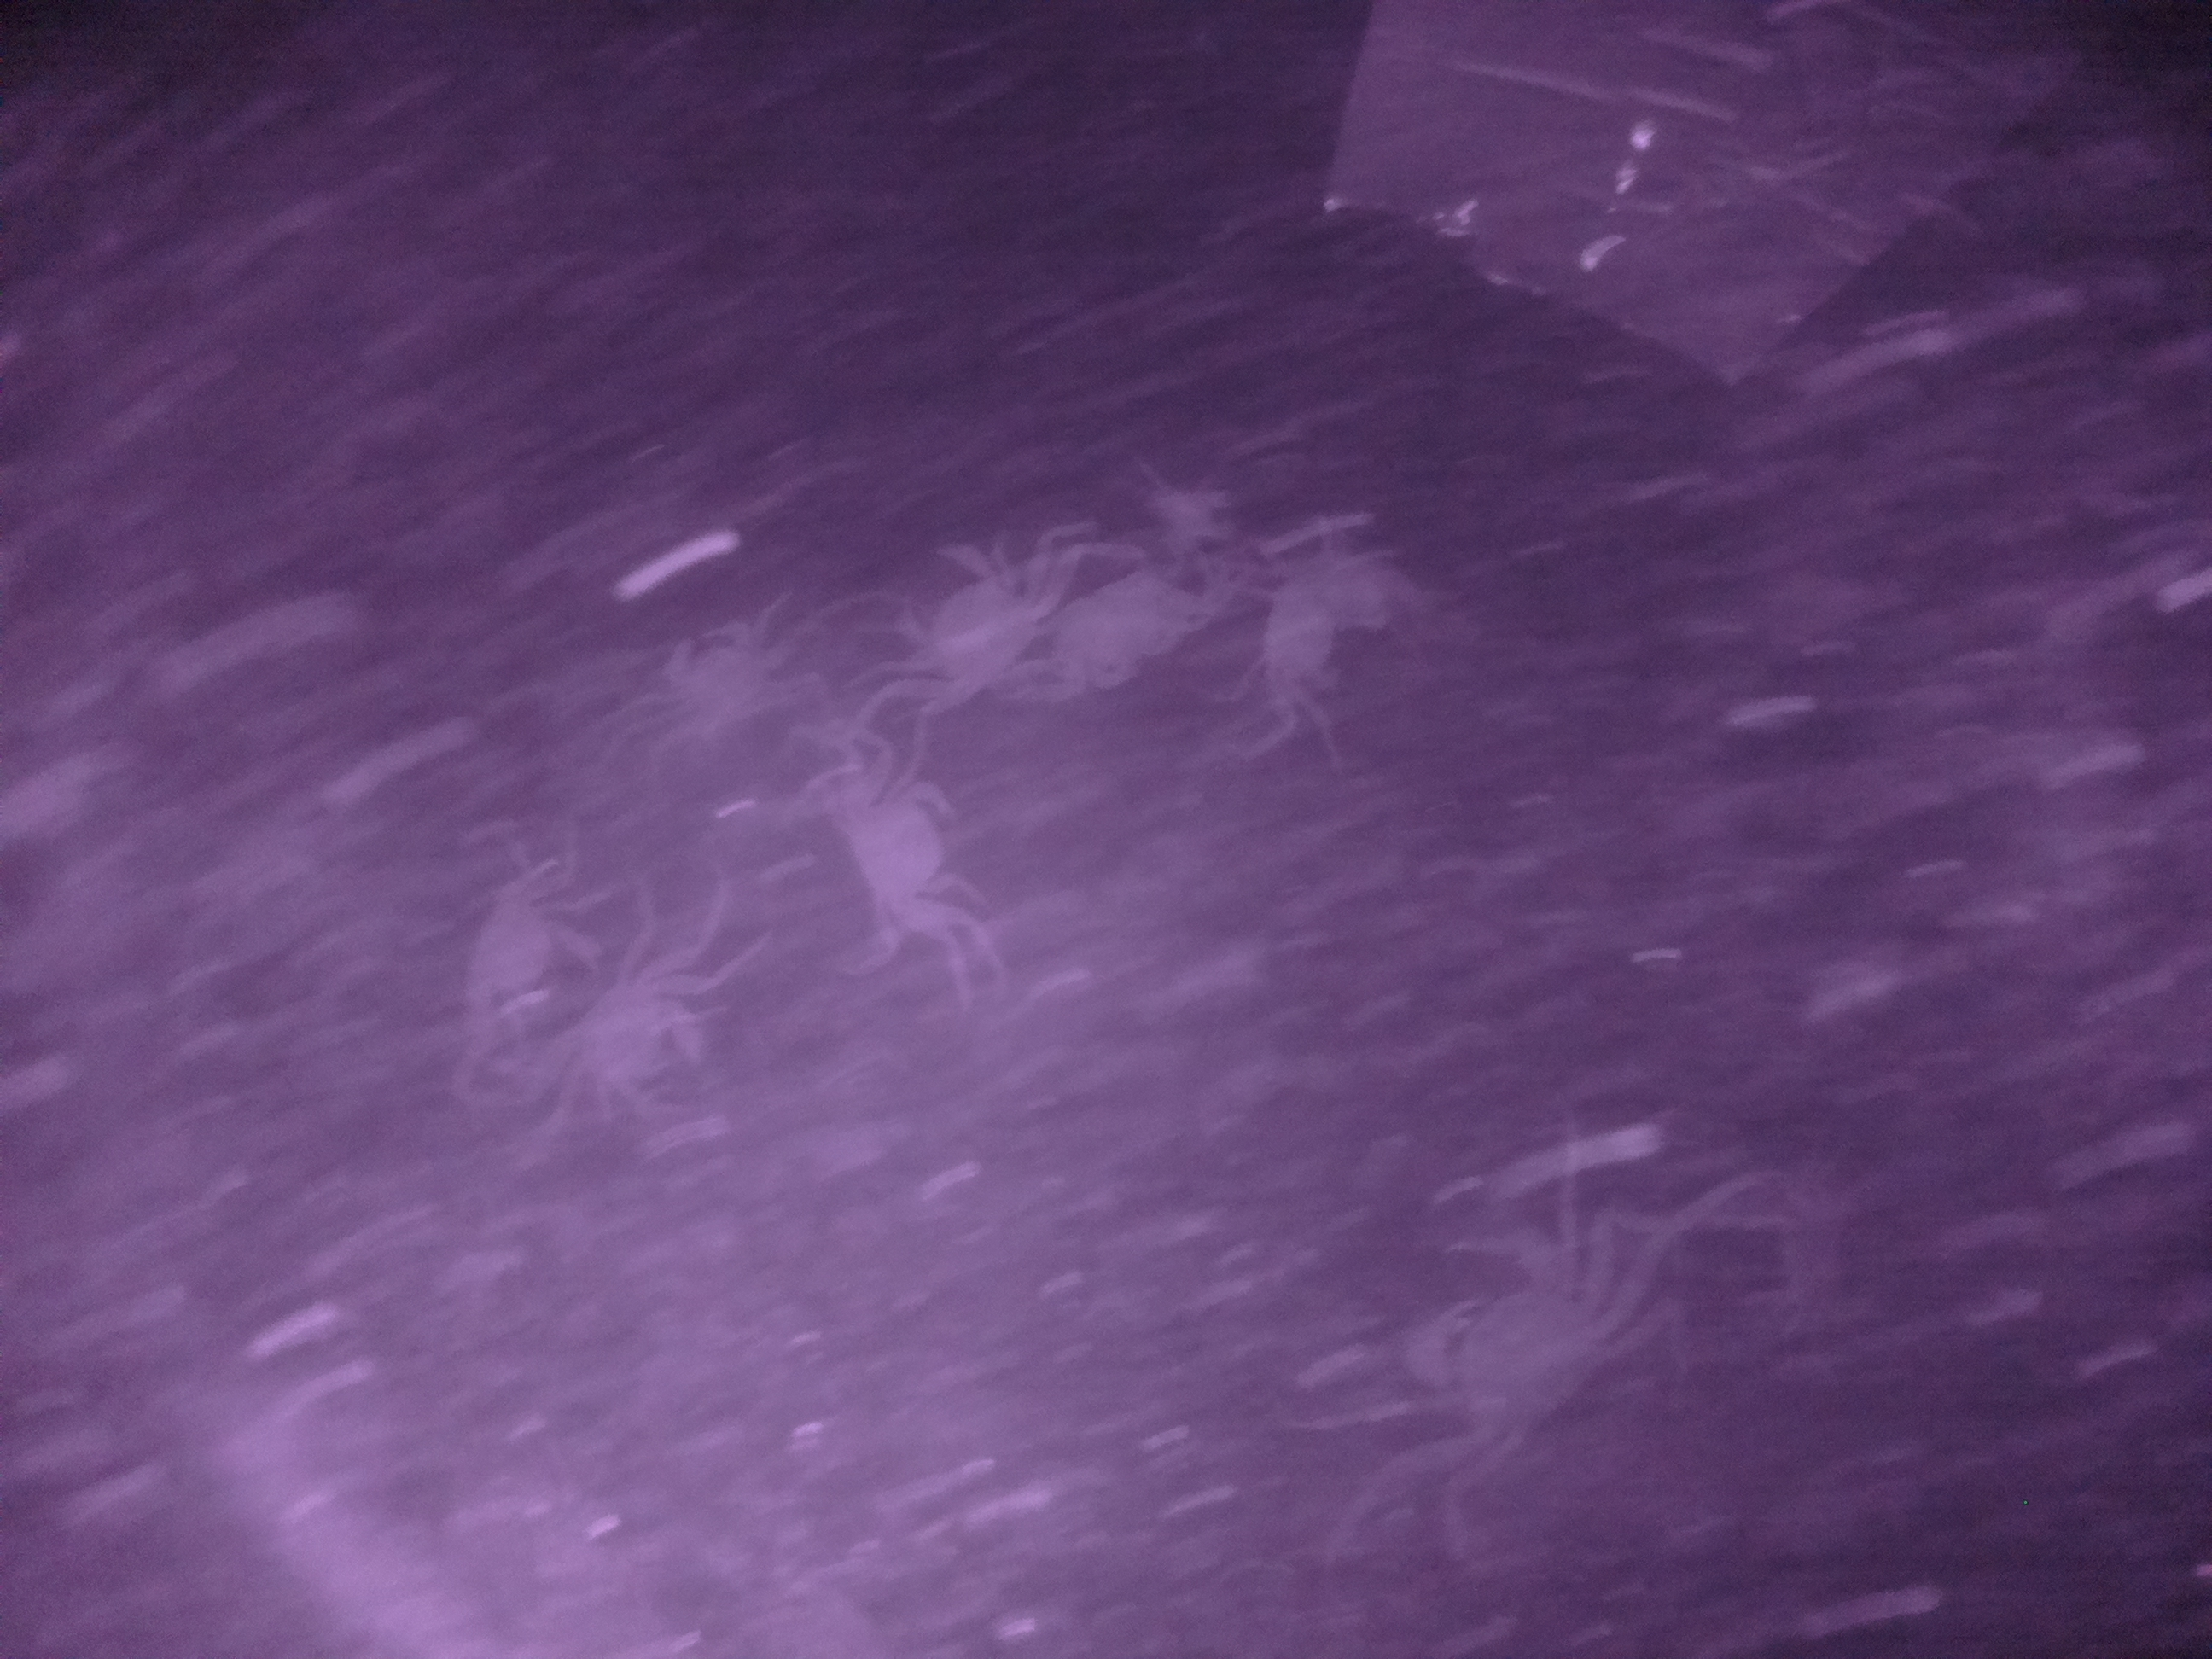Crab: (547, 929, 738, 1148), (881, 523, 1062, 737), (787, 760, 986, 945)
